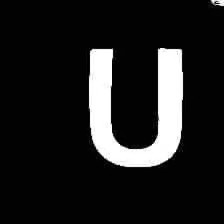LTR_U: (78, 35, 190, 175)
